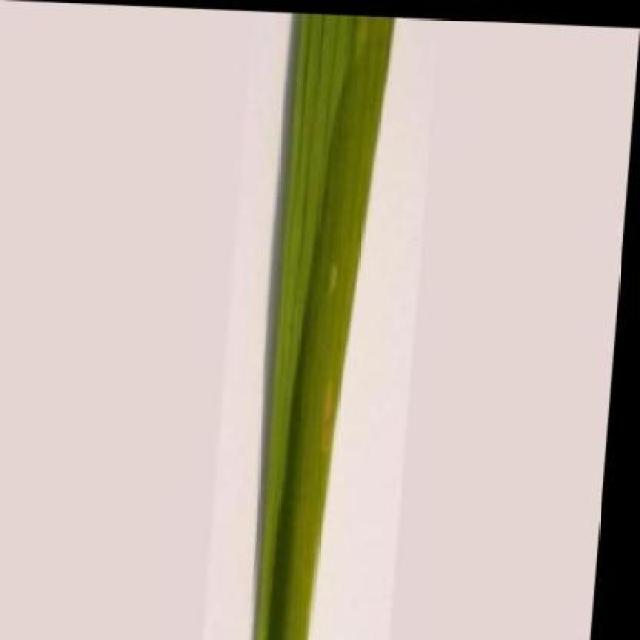Brown_Spot: (247, 9, 396, 640)
